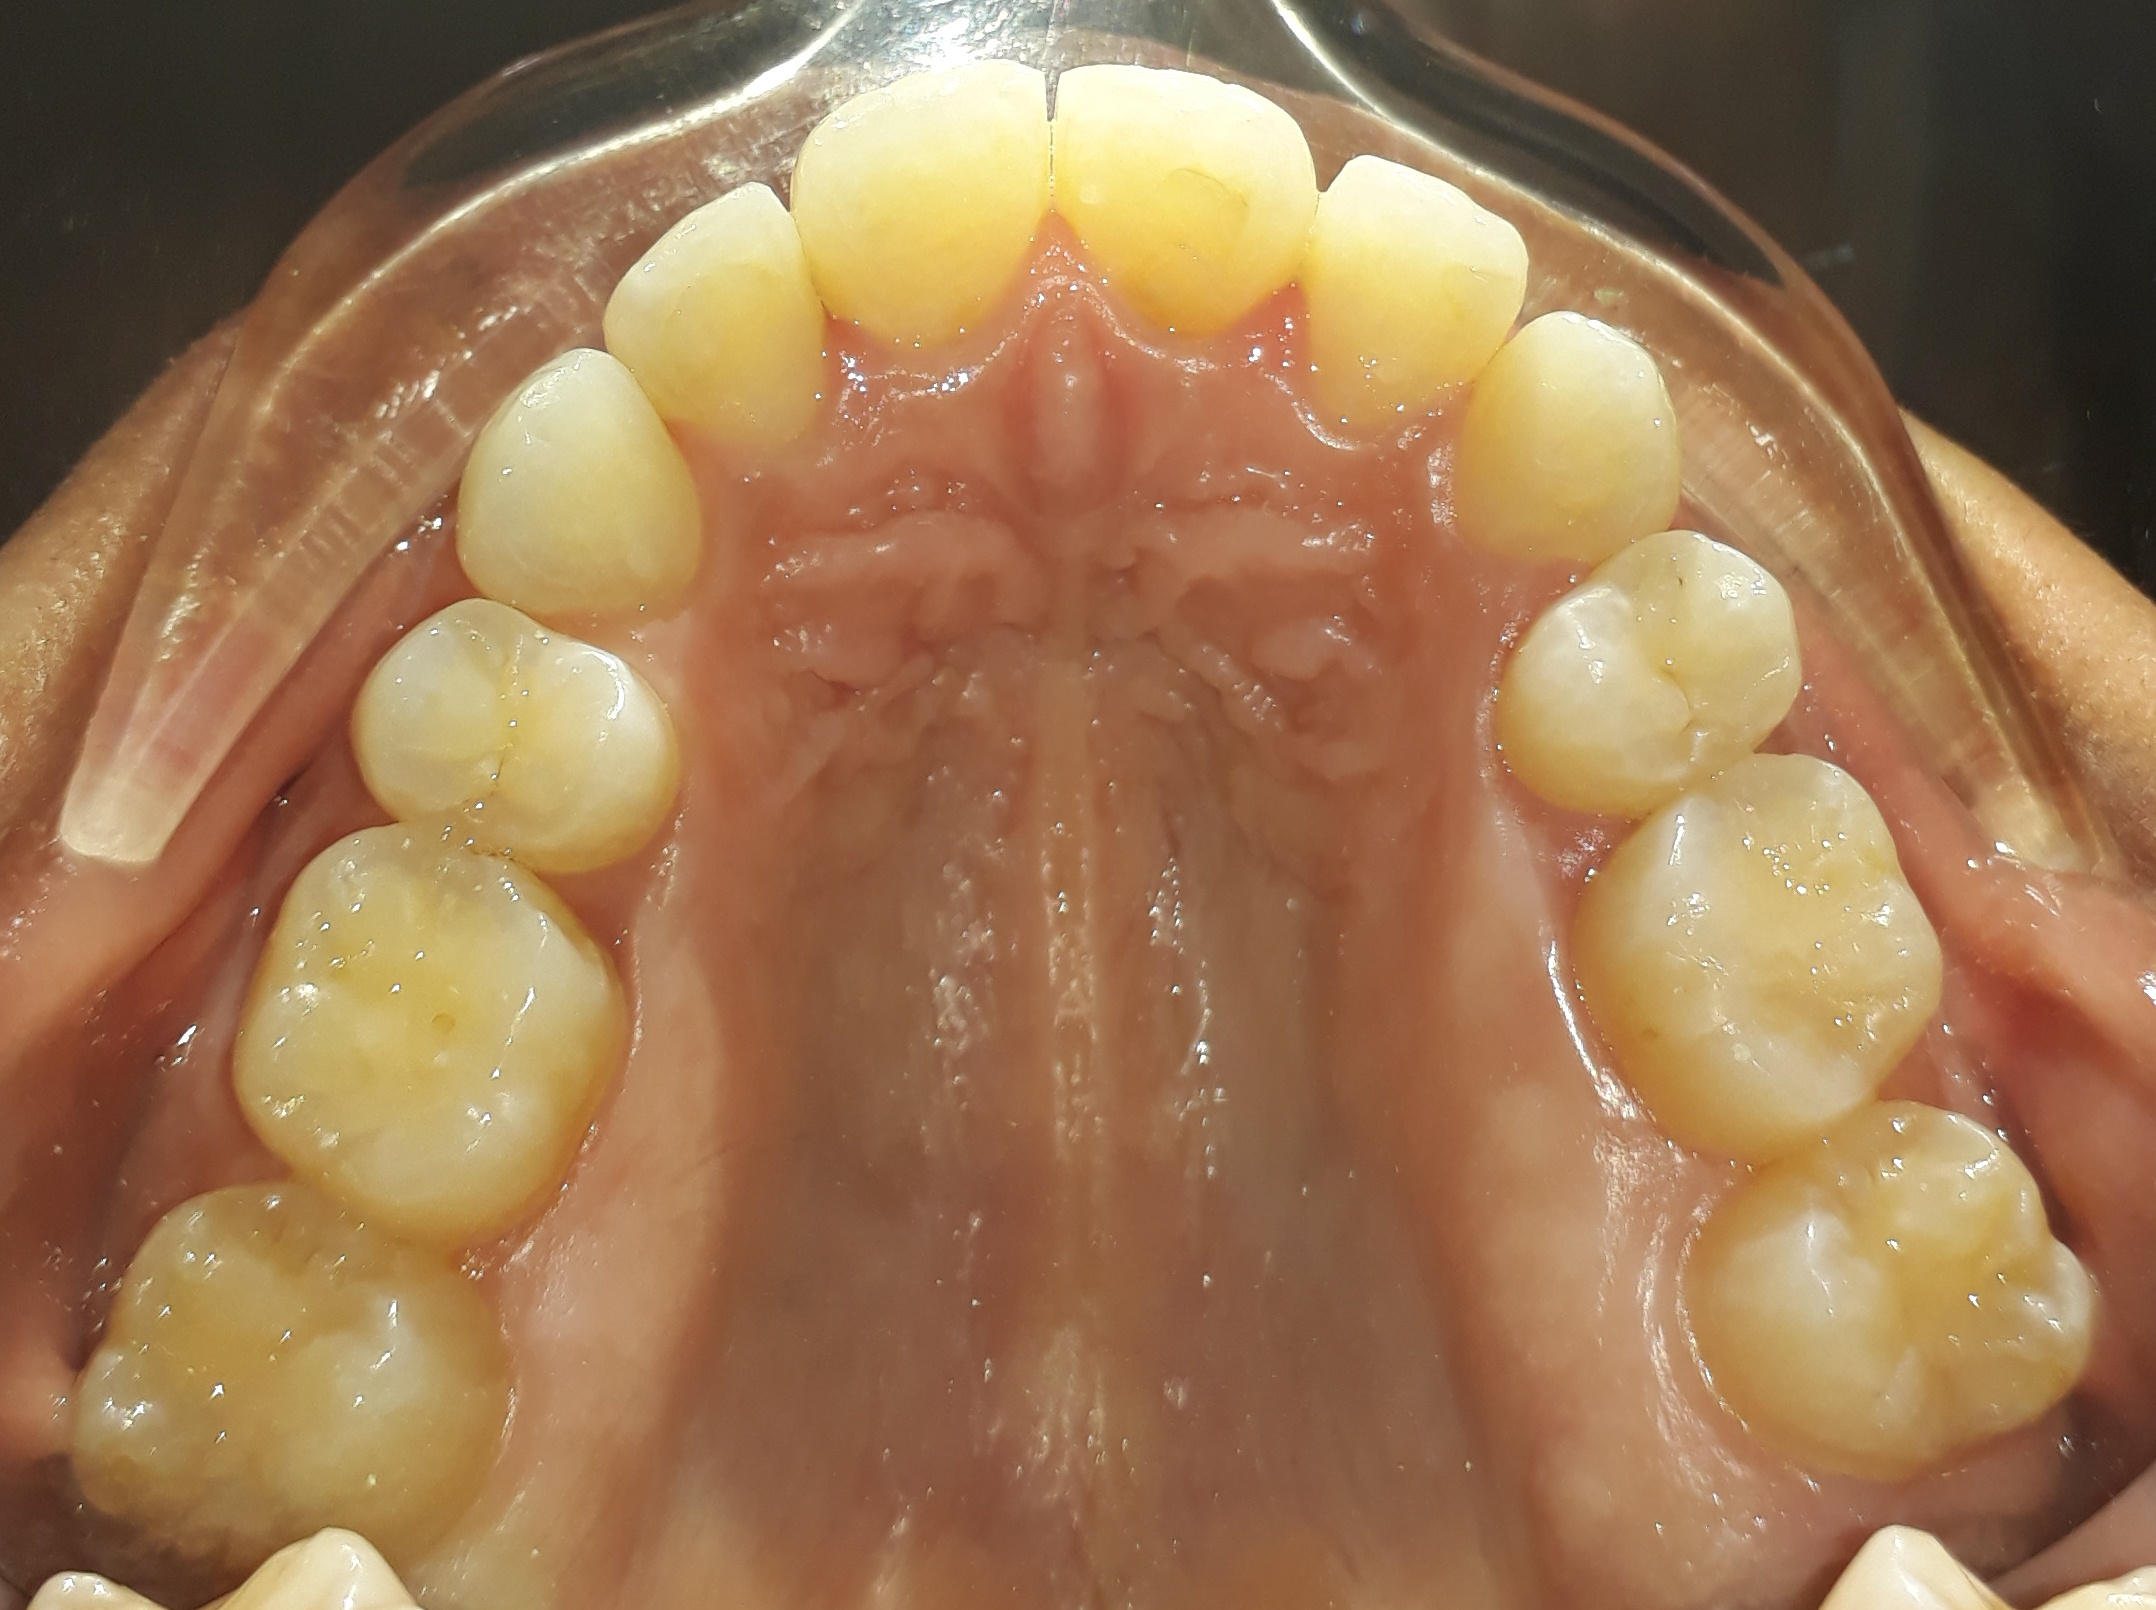1st Molar: (64, 1187, 512, 1552), (1689, 1103, 2093, 1475)
1st Premolar: (348, 599, 685, 876), (1497, 529, 1803, 812)
2nd Premolar: (238, 834, 631, 1233), (1569, 763, 1951, 1147)
Canine: (453, 348, 717, 607), (1447, 306, 1688, 563)
Central Incisor: (798, 47, 1052, 362), (1053, 51, 1309, 360)
Lateral Incisor: (599, 174, 835, 467), (1305, 156, 1532, 438)
